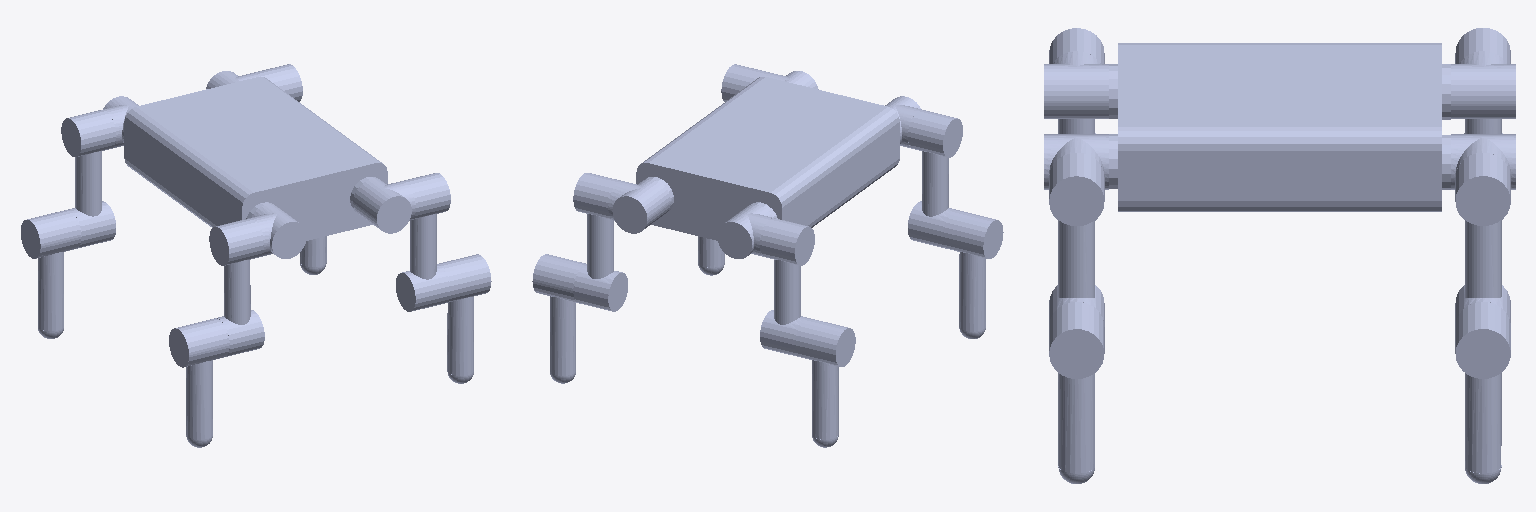
--- Facts derived from the render (not from the file) ---
Views: 3 orthographic renders of the robot side by side, from view 1: azimuth 30°, elevation 25°; view 2: azimuth 150°, elevation 25°; view 3: azimuth 270°, elevation 25°.
Model doggo_robot with 17 links and 16 joints (12 revolute, 4 fixed), rooted at base_link, posed all joints at 0.
Visible links, largest first — view 1: base_link, FrontLeftLink2, BackRightLink2, FrontRightLink2, FrontRightLink3, BackRightLink3, FrontLeftLink3, FrontLeftLink1, FrontRightLink1, BackLeftLink2, BackRightLink1, BackLeftLink3; view 2: base_link, FrontRightLink2, BackRightLink2, BackLeftLink2, FrontRightLink3, BackRightLink3, BackLeftLink3, BackLeftLink1, BackRightLink1, FrontLeftLink2, FrontRightLink1, FrontLeftLink3; view 3: base_link, FrontLeftLink3, BackLeftLink3, FrontLeftLink2, BackLeftLink2, BackRightLink1, FrontRightLink1, FrontLeftLink1, BackLeftLink1, BackRightLink2, FrontRightLink2.
Link boxes in pixels (bbox=[...]): base_link: bbox=[124, 77, 387, 240]; FrontLeftLink2: bbox=[396, 173, 450, 311]; BackRightLink2: bbox=[61, 110, 115, 248]; FrontRightLink2: bbox=[209, 218, 264, 356]; FrontRightLink3: bbox=[169, 318, 229, 439]; BackRightLink3: bbox=[21, 210, 80, 330]; FrontLeftLink3: bbox=[439, 254, 491, 375]; FrontLeftLink1: bbox=[353, 179, 415, 233]; FrontRightLink1: bbox=[251, 205, 306, 258]; BackLeftLink2: bbox=[254, 64, 302, 101]; BackRightLink1: bbox=[103, 96, 138, 148]; BackLeftLink3: bbox=[300, 236, 326, 266]; base_link: bbox=[636, 77, 899, 240]; FrontRightLink2: bbox=[908, 110, 962, 248]; BackRightLink2: bbox=[760, 218, 814, 356]; BackLeftLink2: bbox=[573, 173, 627, 311]; FrontRightLink3: bbox=[943, 210, 1003, 331]; BackRightLink3: bbox=[795, 318, 855, 439]; BackLeftLink3: bbox=[532, 254, 585, 375]; BackLeftLink1: bbox=[608, 179, 670, 233]; BackRightLink1: bbox=[717, 205, 772, 258]; FrontLeftLink2: bbox=[721, 64, 769, 101]; FrontRightLink1: bbox=[885, 96, 921, 148]; FrontLeftLink3: bbox=[698, 236, 724, 267]; base_link: bbox=[1109, 43, 1450, 211]; FrontLeftLink3: bbox=[1049, 302, 1104, 473]; BackLeftLink3: bbox=[1455, 302, 1510, 473]; FrontLeftLink2: bbox=[1049, 153, 1104, 326]; BackLeftLink2: bbox=[1455, 153, 1510, 326]; BackRightLink1: bbox=[1451, 51, 1515, 118]; FrontRightLink1: bbox=[1044, 51, 1108, 118]; FrontLeftLink1: bbox=[1044, 134, 1108, 189]; BackLeftLink1: bbox=[1451, 134, 1515, 189]; BackRightLink2: bbox=[1455, 28, 1510, 219]; FrontRightLink2: bbox=[1049, 28, 1104, 220].
Size in the robot's own frame: 0.52 by 0.51 by 0.37 metres.
Meshes: 17 distinct files referenced, 17 mesh visuals loaded (17 binary STL).

URDF robot description (doggo_robot):
<?xml version="1.0" encoding="utf-8" ?>
<!-- This URDF was automatically created by SolidWorks to URDF Exporter! Originally created by Stephen Brawner ([email redacted])
     Commit Version: 1.5.1-0-g916b5db  Build Version: 1.5.7152.31018
     For more information, please see http://wiki.ros.org/sw_urdf_exporter -->
<robot name="doggo_robot">
    <link name="base_link">

<inertial>
            <origin xyz="7.6534E-18 1.2363E-17 0.050007" rpy="0 0 0" />
            <mass value="8.7429" />
            <inertia ixx="0.098828" ixy="4.1822E-18" ixz="-6.831E-19" iyy="0.051833" iyz="5.5264E-18" izz="0.13653" />
        </inertial>

        <visual>
            <origin xyz="0 0 0" rpy="0 0 0" />
            <geometry>
                <mesh filename="package://doggo_robot/meshes/base_link.STL" />
            </geometry>
            <material name="">
                <color rgba="0.79216 0.81961 0.93333 1" />
            </material>
        </visual>
        <collision>
            <origin xyz="0 0 0" rpy="0 0 0" />
            <geometry>
                <mesh filename="package://doggo_robot/meshes/base_link.STL" />
            </geometry>
        </collision>
    </link>
    <link name="FrontRightLink1">

<inertial>
            <origin xyz="0.005471 4.5133E-10 2.0362E-12" rpy="0 0 0" />
            <mass value="0.23902" />
            <inertia ixx="0.000146" ixy="-2.7745E-12" ixz="1.3999E-15" iyy="0.0001694" iyz="1.3079E-11" izz="0.00013744" />
        </inertial>

        <visual>
            <origin xyz="0 0 0" rpy="0 0 0" />
            <geometry>
                <mesh filename="package://doggo_robot/meshes/FrontRightLink1.STL" />
            </geometry>
            <material name="">
                <color rgba="0.79216 0.81961 0.93333 1" />
            </material>
        </visual>
        <collision>
            <origin xyz="0 0 0" rpy="0 0 0" />
            <geometry>
                <mesh filename="package://doggo_robot/meshes/FrontRightLink1.STL" />
            </geometry>
        </collision>
    </link>
    <joint name="FrontRightJoint1" type="revolute">
        <origin xyz="-0.0899999999999993 -0.22 0.0505413918665352" rpy="-1.5707963267949 0.00403021498393773 -3.14159265358979" />
        <parent link="base_link" />
        <child link="FrontRightLink1" />
        <axis xyz="0 0 1" />
        <limit lower="-3.14" upper="3.14" effort="10" velocity="1" />
        <dynamics damping="0.5" friction="0.5" />
    </joint>
    <link name="FrontRightLink2">

<inertial>
            <origin xyz="0.075 5.2834E-08 1.2586E-08" rpy="0 0 0" />
            <mass value="0.45685" />
            <inertia ixx="0.00020195" ixy="3.4474E-20" ixz="-4.3516E-20" iyy="0.0021844" iyz="-1.1083E-10" izz="0.0021596" />
        </inertial>

        <visual>
            <origin xyz="0 0 0" rpy="0 0 0" />
            <geometry>
                <mesh filename="package://doggo_robot/meshes/FrontRightLink2.STL" />
            </geometry>
            <material name="">
                <color rgba="0.79216 0.81961 0.93333 1" />
            </material>
        </visual>
        <collision>
            <origin xyz="0 0 0" rpy="0 0 0" />
            <geometry>
                <mesh filename="package://doggo_robot/meshes/FrontRightLink2.STL" />
            </geometry>
        </collision>
    </link>
    <joint name="FrontRightJoint2" type="revolute">
        <origin xyz="0.0700000000000005 0 0" rpy="1.5707963267949 0 1.5707963267949" />
        <parent link="FrontRightLink1" />
        <child link="FrontRightLink2" />
        <axis xyz="0 0 -1" />
        <limit lower="-3.14" upper="3.14" effort="10" velocity="1" />
        <dynamics damping="0.5" friction="0.5" />
    </joint>
    <link name="FrontRightLink3">

<inertial>
            <origin xyz="0.03885 -5.0149E-08 -1.9766E-08" rpy="0 0 0" />
            <mass value="0.35095" />
            <inertia ixx="0.00015611" ixy="4.4601E-10" ixz="3.5041E-10" iyy="0.001015" iyz="-1.4127E-10" izz="0.00097907" />
        </inertial>

        <visual>
            <origin xyz="0 0 0" rpy="0 0 0" />
            <geometry>
                <mesh filename="package://doggo_robot/meshes/FrontRightLink3.STL" />
            </geometry>
            <material name="">
                <color rgba="0.79216 0.81961 0.93333 1" />
            </material>
        </visual>
        <collision>
            <origin xyz="0 0 0" rpy="0 0 0" />
            <geometry>
                <mesh filename="package://doggo_robot/meshes/FrontRightLink3.STL" />
            </geometry>
        </collision>
    </link>
    <joint name="FrontRightJoint3" type="revolute">
        <origin xyz="0.15 0 0.065" rpy="0 0 0" />
        <parent link="FrontRightLink2" />
        <child link="FrontRightLink3" />
        <axis xyz="0 0 1" />
        <limit lower="-3.14" upper="3.14" effort="10" velocity="1" />
        <dynamics damping="0.5" friction="0.5" />
    </joint>
    <link name="FrontRightLink4">

<inertial>
            <origin xyz="-0.0125 2.7756E-17 2.7756E-17" rpy="0 0 0" />
            <mass value="0.016755" />
            <inertia ixx="2.6808E-06" ixy="3.3305E-39" ixz="1.613E-22" iyy="1.7383E-06" iyz="4.8904E-39" izz="1.7383E-06" />
        </inertial>

        <visual>
            <origin xyz="0 0 0" rpy="0 0 0" />
            <geometry>
                <mesh filename="package://doggo_robot/meshes/FrontRightLink4.STL" />
            </geometry>
            <material name="">
                <color rgba="0.79216 0.81961 0.93333 1" />
            </material>
        </visual>
        <collision>
            <origin xyz="0 0 0" rpy="0 0 0" />
            <geometry>
                <mesh filename="package://doggo_robot/meshes/FrontRightLink4.STL" />
            </geometry>
        </collision>
    </link>
    <joint name="FrontRightJoint4" type="fixed">
        <origin xyz="0.17 0 0" rpy="0 0 0" />
        <parent link="FrontRightLink3" />
        <child link="FrontRightLink4" />
        <axis xyz="0 0 0" />
    </joint>
    <link name="FrontLeftLink1">

<inertial>
            <origin xyz="0.005471 -6.3377E-10 -1.1461E-12" rpy="0 0 0" />
            <mass value="0.23902" />
            <inertia ixx="0.000146" ixy="3.2001E-12" ixz="-7.894E-16" iyy="0.0001694" iyz="1.3041E-11" izz="0.00013744" />
        </inertial>

        <visual>
            <origin xyz="0 0 0" rpy="0 0 0" />
            <geometry>
                <mesh filename="package://doggo_robot/meshes/FrontLeftLink1.STL" />
            </geometry>
            <material name="">
                <color rgba="0.79216 0.81961 0.93333 1" />
            </material>
        </visual>
        <collision>
            <origin xyz="0 0 0" rpy="0 0 0" />
            <geometry>
                <mesh filename="package://doggo_robot/meshes/FrontLeftLink1.STL" />
            </geometry>
        </collision>
    </link>
    <joint name="FrontLeftJoint1" type="revolute">
        <origin xyz="0.09 -0.22 0.0505413918665349" rpy="1.5707963267949 0.00226227152123116 0" />
        <parent link="base_link" />
        <child link="FrontLeftLink1" />
        <axis xyz="0 0 -1" />
        <limit lower="-3.14" upper="3.14" effort="10" velocity="1" />
        <dynamics damping="0.5" friction="0.5" />
    </joint>
    <link name="FrontLeftLink2">

<inertial>
            <origin xyz="0.075 5.2834E-08 1.2586E-08" rpy="0 0 0" />
            <mass value="0.45685" />
            <inertia ixx="0.00020195" ixy="-1.5977E-20" ixz="-2.836E-19" iyy="0.0021844" iyz="-1.1083E-10" izz="0.0021596" />
        </inertial>

        <visual>
            <origin xyz="0 0 0" rpy="0 0 0" />
            <geometry>
                <mesh filename="package://doggo_robot/meshes/FrontLeftLink2.STL" />
            </geometry>
            <material name="">
                <color rgba="0.79216 0.81961 0.93333 1" />
            </material>
        </visual>
        <collision>
            <origin xyz="0 0 0" rpy="0 0 0" />
            <geometry>
                <mesh filename="package://doggo_robot/meshes/FrontLeftLink2.STL" />
            </geometry>
        </collision>
    </link>
    <joint name="FrontLeftJoint2" type="revolute">
        <origin xyz="0.0699999999999998 0 0" rpy="-1.5707963267949 0 -1.5707963267949" />
        <parent link="FrontLeftLink1" />
        <child link="FrontLeftLink2" />
        <axis xyz="0 0 -1" />
        <limit lower="-3.14" upper="3.14" effort="10" velocity="1" />
        <dynamics damping="0.5" friction="0.5" />
    </joint>
    <link name="FrontLeftLink3">

<inertial>
            <origin xyz="0.03885 -5.0012E-08 -2.0646E-08" rpy="0 0 0" />
            <mass value="0.35095" />
            <inertia ixx="0.00015611" ixy="4.4229E-10" ixz="3.6261E-10" iyy="0.001015" iyz="-1.4537E-10" izz="0.00097907" />
        </inertial>

        <visual>
            <origin xyz="0 0 0" rpy="0 0 0" />
            <geometry>
                <mesh filename="package://doggo_robot/meshes/FrontLeftLink3.STL" />
            </geometry>
            <material name="">
                <color rgba="0.79216 0.81961 0.93333 1" />
            </material>
        </visual>
        <collision>
            <origin xyz="0 0 0" rpy="0 0 0" />
            <geometry>
                <mesh filename="package://doggo_robot/meshes/FrontLeftLink3.STL" />
            </geometry>
        </collision>
    </link>
    <joint name="FrontLeftJoint3" type="revolute">
        <origin xyz="0.15 0 0.0650000000000001" rpy="0 0 0" />
        <parent link="FrontLeftLink2" />
        <child link="FrontLeftLink3" />
        <axis xyz="0 0 1" />
        <limit lower="-3.14" upper="3.14" effort="10" velocity="1" />
        <dynamics damping="0.5" friction="0.5" />
    </joint>
    <link name="FrontLeftLink4">

<inertial>
            <origin xyz="-0.0125 0 0" rpy="0 0 0" />
            <mass value="0.016755" />
            <inertia ixx="2.6808E-06" ixy="3.3342E-39" ixz="2.4815E-23" iyy="1.7383E-06" iyz="4.9012E-39" izz="1.7383E-06" />
        </inertial>

        <visual>
            <origin xyz="0 0 0" rpy="0 0 0" />
            <geometry>
                <mesh filename="package://doggo_robot/meshes/FrontLeftLink4.STL" />
            </geometry>
            <material name="">
                <color rgba="0.79216 0.81961 0.93333 1" />
            </material>
        </visual>
        <collision>
            <origin xyz="0 0 0" rpy="0 0 0" />
            <geometry>
                <mesh filename="package://doggo_robot/meshes/FrontLeftLink4.STL" />
            </geometry>
        </collision>
    </link>
    <joint name="FrontLeftJoint4" type="fixed">
        <origin xyz="0.17 0 0" rpy="0 0 0" />
        <parent link="FrontLeftLink3" />
        <child link="FrontLeftLink4" />
        <axis xyz="0 0 0" />
    </joint>
    <link name="BackRightLink1">

<inertial>
            <origin xyz="0.005471 -8.6868E-10 0" rpy="0 0 0" />
            <mass value="0.23902" />
            <inertia ixx="0.000146" ixy="3.7479E-12" ixz="1.2123E-20" iyy="0.0001694" iyz="1.2992E-11" izz="0.00013744" />
        </inertial>

        <visual>
            <origin xyz="0 0 0" rpy="0 0 0" />
            <geometry>
                <mesh filename="package://doggo_robot/meshes/BackRightLink1.STL" />
            </geometry>
            <material name="">
                <color rgba="0.79216 0.81961 0.93333 1" />
            </material>
        </visual>
        <collision>
            <origin xyz="0 0 0" rpy="0 0 0" />
            <geometry>
                <mesh filename="package://doggo_robot/meshes/BackRightLink1.STL" />
            </geometry>
        </collision>
    </link>
    <joint name="BackRightJoint1" type="revolute">
        <origin xyz="-0.09 0.22 0.0505413918665349" rpy="1.5707963267949 0 3.14159265358979" />
        <parent link="base_link" />
        <child link="BackRightLink1" />
        <axis xyz="0 0 -1" />
        <limit lower="-3.14" upper="3.14" effort="10" velocity="1" />
        <dynamics damping="0.5" friction="0.5" />
    </joint>
    <link name="BackRightLink2">

<inertial>
            <origin xyz="0.075 5.2834E-08 1.2586E-08" rpy="0 0 0" />
            <mass value="0.45685" />
            <inertia ixx="0.00020195" ixy="-9.3054E-21" ixz="-3.2989E-20" iyy="0.0021844" iyz="-1.1083E-10" izz="0.0021596" />
        </inertial>

        <visual>
            <origin xyz="0 0 0" rpy="0 0 0" />
            <geometry>
                <mesh filename="package://doggo_robot/meshes/BackRightLink2.STL" />
            </geometry>
            <material name="">
                <color rgba="0.79216 0.81961 0.93333 1" />
            </material>
        </visual>
        <collision>
            <origin xyz="0 0 0" rpy="0 0 0" />
            <geometry>
                <mesh filename="package://doggo_robot/meshes/BackRightLink2.STL" />
            </geometry>
        </collision>
    </link>
    <joint name="BackRightJoint2" type="revolute">
        <origin xyz="0.07 0 0" rpy="-1.5707963267949 0 -1.5707963267949" />
        <parent link="BackRightLink1" />
        <child link="BackRightLink2" />
        <axis xyz="0 0 -1" />
        <limit lower="-3.14" upper="3.14" effort="10" velocity="1" />
        <dynamics damping="0.5" friction="0.5" />
    </joint>
    <link name="BackRightLink3">

<inertial>
            <origin xyz="0.03885 4.9837E-08 2.1772E-08" rpy="0 0 0" />
            <mass value="0.35095" />
            <inertia ixx="0.00015611" ixy="-4.3753E-10" ixz="-3.7822E-10" iyy="0.001015" iyz="-1.5061E-10" izz="0.00097907" />
        </inertial>

        <visual>
            <origin xyz="0 0 0" rpy="0 0 0" />
            <geometry>
                <mesh filename="package://doggo_robot/meshes/BackRightLink3.STL" />
            </geometry>
            <material name="">
                <color rgba="0.79216 0.81961 0.93333 1" />
            </material>
        </visual>
        <collision>
            <origin xyz="0 0 0" rpy="0 0 0" />
            <geometry>
                <mesh filename="package://doggo_robot/meshes/BackRightLink3.STL" />
            </geometry>
        </collision>
    </link>
    <joint name="BackRightJoint3" type="revolute">
        <origin xyz="0.15 0 0.065" rpy="3.14159265358979 0 0" />
        <parent link="BackRightLink2" />
        <child link="BackRightLink3" />
        <axis xyz="0 0 -1" />
        <limit lower="-3.14" upper="3.14" effort="10" velocity="1" />
        <dynamics damping="0.5" friction="0.5" />
    </joint>
    <link name="BackRightLink4">

<inertial>
            <origin xyz="-0.0125 2.7756E-17 -2.7756E-17" rpy="0 0 0" />
            <mass value="0.016755" />
            <inertia ixx="2.6808E-06" ixy="-3.3391E-39" ixz="4.5888E-23" iyy="1.7383E-06" iyz="4.9151E-39" izz="1.7383E-06" />
        </inertial>

        <visual>
            <origin xyz="0 0 0" rpy="0 0 0" />
            <geometry>
                <mesh filename="package://doggo_robot/meshes/BackRightLink4.STL" />
            </geometry>
            <material name="">
                <color rgba="0.79216 0.81961 0.93333 1" />
            </material>
        </visual>
        <collision>
            <origin xyz="0 0 0" rpy="0 0 0" />
            <geometry>
                <mesh filename="package://doggo_robot/meshes/BackRightLink4.STL" />
            </geometry>
        </collision>
    </link>
    <joint name="BackRightJoint4" type="fixed">
        <origin xyz="0.17 0 0" rpy="0 0 0" />
        <parent link="BackRightLink3" />
        <child link="BackRightLink4" />
        <axis xyz="0 0 0" />
    </joint>
    <link name="BackLeftLink1">

<inertial>
            <origin xyz="0.005471 8.6868E-10 2.7756E-17" rpy="0 0 0" />
            <mass value="0.23902" />
            <inertia ixx="0.000146" ixy="-3.7479E-12" ixz="2.3692E-21" iyy="0.0001694" iyz="1.2992E-11" izz="0.00013744" />
        </inertial>

        <visual>
            <origin xyz="0 0 0" rpy="0 0 0" />
            <geometry>
                <mesh filename="package://doggo_robot/meshes/BackLeftLink1.STL" />
            </geometry>
            <material name="">
                <color rgba="0.79216 0.81961 0.93333 1" />
            </material>
        </visual>
        <collision>
            <origin xyz="0 0 0" rpy="0 0 0" />
            <geometry>
                <mesh filename="package://doggo_robot/meshes/BackLeftLink1.STL" />
            </geometry>
        </collision>
    </link>
    <joint name="BackLeftJoint1" type="revolute">
        <origin xyz="0.09 0.22 0.0505413918665349" rpy="-1.5707963267949 0 0" />
        <parent link="base_link" />
        <child link="BackLeftLink1" />
        <axis xyz="0 0 1" />
        <limit lower="-3.14" upper="3.14" effort="10" velocity="1" />
        <dynamics damping="0.5" friction="0.5" />
    </joint>
    <link name="BackLeftLink2">

<inertial>
            <origin xyz="0.075 5.2834E-08 1.2586E-08" rpy="0 0 0" />
            <mass value="0.45685" />
            <inertia ixx="0.00020195" ixy="-2.4996E-18" ixz="7.3068E-19" iyy="0.0021844" iyz="-1.1083E-10" izz="0.0021596" />
        </inertial>

        <visual>
            <origin xyz="0 0 0" rpy="0 0 0" />
            <geometry>
                <mesh filename="package://doggo_robot/meshes/BackLeftLink2.STL" />
            </geometry>
            <material name="">
                <color rgba="0.79216 0.81961 0.93333 1" />
            </material>
        </visual>
        <collision>
            <origin xyz="0 0 0" rpy="0 0 0" />
            <geometry>
                <mesh filename="package://doggo_robot/meshes/BackLeftLink2.STL" />
            </geometry>
        </collision>
    </link>
    <joint name="BackLeftJoint2" type="revolute">
        <origin xyz="0.07 0 0" rpy="1.5707963267949 0 1.5707963267949" />
        <parent link="BackLeftLink1" />
        <child link="BackLeftLink2" />
        <axis xyz="0 0 -1" />
        <limit lower="-3.14" upper="3.14" effort="10" velocity="1" />
        <dynamics damping="0.5" friction="0.5" />
    </joint>
    <link name="BackLeftLink3">

<inertial>
            <origin xyz="0.03885 -4.9837E-08 -2.1772E-08" rpy="0 0 0" />
            <mass value="0.35095" />
            <inertia ixx="0.00015611" ixy="4.3753E-10" ixz="3.7822E-10" iyy="0.001015" iyz="-1.5061E-10" izz="0.00097907" />
        </inertial>

        <visual>
            <origin xyz="0 0 0" rpy="0 0 0" />
            <geometry>
                <mesh filename="package://doggo_robot/meshes/BackLeftLink3.STL" />
            </geometry>
            <material name="">
                <color rgba="0.79216 0.81961 0.93333 1" />
            </material>
        </visual>
        <collision>
            <origin xyz="0 0 0" rpy="0 0 0" />
            <geometry>
                <mesh filename="package://doggo_robot/meshes/BackLeftLink3.STL" />
            </geometry>
        </collision>
    </link>
    <joint name="BackLeftJoint3" type="revolute">
        <origin xyz="0.15 0 0.0649999999999999" rpy="0 0 0" />
        <parent link="BackLeftLink2" />
        <child link="BackLeftLink3" />
        <axis xyz="0 0 1" />
        <limit lower="-3.14" upper="3.14" effort="10" velocity="1" />
        <dynamics damping="0.5" friction="0.5" />
    </joint>
    <link name="BackLeftLink4">

<inertial>
            <origin xyz="-0.0125 2.7756E-17 2.7756E-17" rpy="0 0 0" />
            <mass value="0.016755" />
            <inertia ixx="2.6808E-06" ixy="3.3391E-39" ixz="8.1167E-23" iyy="1.7383E-06" iyz="4.9151E-39" izz="1.7383E-06" />
        </inertial>

        <visual>
            <origin xyz="0 0 0" rpy="0 0 0" />
            <geometry>
                <mesh filename="package://doggo_robot/meshes/BackLeftLink4.STL" />
            </geometry>
            <material name="">
                <color rgba="0.79216 0.81961 0.93333 1" />
            </material>
        </visual>
        <collision>
            <origin xyz="0 0 0" rpy="0 0 0" />
            <geometry>
                <mesh filename="package://doggo_robot/meshes/BackLeftLink4.STL" />
            </geometry>
        </collision>
    </link>
    <joint name="BackLeftJoint4" type="fixed">
        <origin xyz="0.17 0 0" rpy="0 0 0" />
        <parent link="BackLeftLink3" />
        <child link="BackLeftLink4" />
        <axis xyz="0 0 0" />
    </joint>

<transmission name="trans_FrontRightJoint1">
        <type>transmission_interface/SimpleTransmission</type>
        <joint name="FrontRightJoint1">
            <hardwareInterface>hardware_interface/EffortJointInterface</hardwareInterface>
        </joint>
        <actuator name="FrontRightJoint1_motor">
            <hardwareInterface>hardware_interface/EffortJointInterface</hardwareInterface>
            <mechanicalReduction>1</mechanicalReduction>
        </actuator>
    </transmission>
    <transmission name="trans_FrontRightJoint2">
        <type>transmission_interface/SimpleTransmission</type>
        <joint name="FrontRightJoint2">
            <hardwareInterface>hardware_interface/EffortJointInterface</hardwareInterface>
        </joint>
        <actuator name="FrontRightJoint2_motor">
            <hardwareInterface>hardware_interface/EffortJointInterface</hardwareInterface>
            <mechanicalReduction>1</mechanicalReduction>
        </actuator>
    </transmission>
    <transmission name="trans_FrontRightJoint3">
        <type>transmission_interface/SimpleTransmission</type>
        <joint name="FrontRightJoint3">
            <hardwareInterface>hardware_interface/EffortJointInterface</hardwareInterface>
        </joint>
        <actuator name="FrontRightJoint3_motor">
            <hardwareInterface>hardware_interface/EffortJointInterface</hardwareInterface>
            <mechanicalReduction>1</mechanicalReduction>
        </actuator>
    </transmission>
    <transmission name="trans_FrontLeftJoint1">
        <type>transmission_interface/SimpleTransmission</type>
        <joint name="FrontLeftJoint1">
            <hardwareInterface>hardware_interface/EffortJointInterface</hardwareInterface>
        </joint>
        <actuator name="FrontLeftJoint1_motor">
            <hardwareInterface>hardware_interface/EffortJointInterface</hardwareInterface>
            <mechanicalReduction>1</mechanicalReduction>
        </actuator>
    </transmission>
    <transmission name="trans_FrontLeftJoint2">
        <type>transmission_interface/SimpleTransmission</type>
        <joint name="FrontLeftJoint2">
            <hardwareInterface>hardware_interface/EffortJointInterface</hardwareInterface>
        </joint>
        <actuator name="FrontLeftJoint2_motor">
            <hardwareInterface>hardware_interface/EffortJointInterface</hardwareInterface>
            <mechanicalReduction>1</mechanicalReduction>
        </actuator>
    </transmission>
    <transmission name="trans_FrontLeftJoint3">
        <type>transmission_interface/SimpleTransmission</type>
        <joint name="FrontLeftJoint3">
            <hardwareInterface>hardware_interface/EffortJointInterface</hardwareInterface>
        </joint>
        <actuator name="FrontLeftJoint3_motor">
            <hardwareInterface>hardware_interface/EffortJointInterface</hardwareInterface>
            <mechanicalReduction>1</mechanicalReduction>
        </actuator>
    </transmission>
    <transmission name="trans_BackRightJoint1">
        <type>transmission_interface/SimpleTransmission</type>
        <joint name="BackRightJoint1">
            <hardwareInterface>hardware_interface/EffortJointInterface</hardwareInterface>
        </joint>
        <actuator name="BackRightJoint1_motor">
            <hardwareInterface>hardware_interface/EffortJointInterface</hardwareInterface>
            <mechanicalReduction>1</mechanicalReduction>
        </actuator>
    </transmission>
    <transmission name="trans_BackRightJoint2">
        <type>transmission_interface/SimpleTransmission</type>
        <joint name="BackRightJoint2">
            <hardwareInterface>hardware_interface/EffortJointInterface</hardwareInterface>
        </joint>
        <actuator name="BackRightJoint2_motor">
            <hardwareInterface>hardware_interface/EffortJointInterface</hardwareInterface>
            <mechanicalReduction>1</mechanicalReduction>
        </actuator>
    </transmission>
    <transmission name="trans_BackRightJoint3">
        <type>transmission_interface/SimpleTransmission</type>
        <joint name="BackRightJoint3">
            <hardwareInterface>hardware_interface/EffortJointInterface</hardwareInterface>
        </joint>
        <actuator name="BackRightJoint3_motor">
            <hardwareInterface>hardware_interface/EffortJointInterface</hardwareInterface>
            <mechanicalReduction>1</mechanicalReduction>
        </actuator>
    </transmission>
    <transmission name="trans_BackLeftJoint1">
        <type>transmission_interface/SimpleTransmission</type>
        <joint name="BackLeftJoint1">
            <hardwareInterface>hardware_interface/EffortJointInterface</hardwareInterface>
        </joint>
        <actuator name="BackLeftJoint1_motor">
            <hardwareInterface>hardware_interface/EffortJointInterface</hardwareInterface>
            <mechanicalReduction>1</mechanicalReduction>
        </actuator>
    </transmission>
    <transmission name="trans_BackLeftJoint2">
        <type>transmission_interface/SimpleTransmission</type>
        <joint name="BackLeftJoint2">
            <hardwareInterface>hardware_interface/EffortJointInterface</hardwareInterface>
        </joint>
        <actuator name="BackLeftJoint2_motor">
            <hardwareInterface>hardware_interface/EffortJointInterface</hardwareInterface>
            <mechanicalReduction>1</mechanicalReduction>
        </actuator>
    </transmission>
    <transmission name="trans_BackLeftJoint3">
        <type>transmission_interface/SimpleTransmission</type>
        <joint name="BackLeftJoint3">
            <hardwareInterface>hardware_interface/EffortJointInterface</hardwareInterface>
        </joint>
        <actuator name="BackLeftJoint3_motor">
            <hardwareInterface>hardware_interface/EffortJointInterface</hardwareInterface>
            <mechanicalReduction>1</mechanicalReduction>
        </actuator>
    </transmission>
    <gazebo>
        <plugin name="gazebo_ros_control" filename="libgazebo_ros_control.so">
            <robotNamespace>/</robotNamespace>
        </plugin>
    </gazebo>
</robot>
